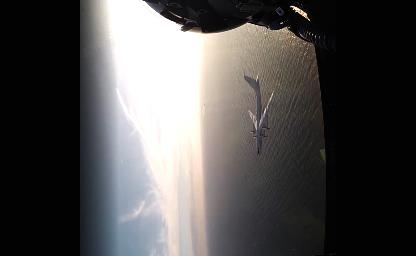Su57: (244, 70, 274, 156)
